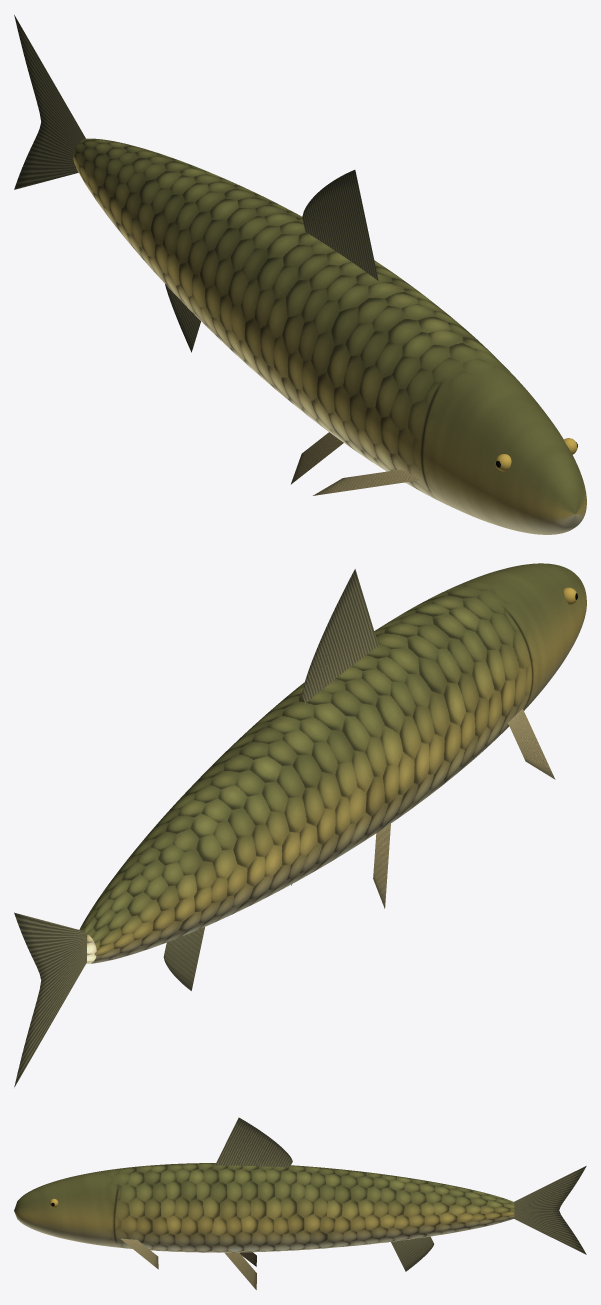
Rendered from bamur.obj.
3 renders of one model, top to bottom at view 1: azimuth 30°, elevation 25°; view 2: azimuth 150°, elevation 25°; view 3: azimuth 270°, elevation 25°, orthographic. The views are drawn at different scales.
Parts seen in each view (by area): view 1: body, fin_tail, fin_dorsal0, fin_pect_R, fin_pelv_R, fin_anal0; view 2: body, fin_tail, fin_dorsal0, fin_anal0, fin_pect_R, fin_pelv_R; view 3: body, fin_tail, fin_dorsal0, fin_anal0, fin_pelv_L, fin_pect_L.
Boxes of the visible parts, bbox=[...] form: body: bbox=[73, 138, 586, 534]; fin_tail: bbox=[14, 15, 85, 189]; fin_dorsal0: bbox=[302, 170, 378, 280]; fin_pect_R: bbox=[313, 469, 420, 495]; fin_pelv_R: bbox=[291, 432, 343, 484]; fin_anal0: bbox=[165, 284, 200, 352]; body: bbox=[79, 563, 586, 963]; fin_tail: bbox=[14, 912, 86, 1087]; fin_dorsal0: bbox=[302, 569, 378, 703]; fin_anal0: bbox=[163, 927, 204, 990]; fin_pect_R: bbox=[508, 708, 555, 779]; fin_pelv_R: bbox=[373, 823, 390, 908]; body: bbox=[14, 1163, 514, 1252]; fin_tail: bbox=[513, 1166, 586, 1254]; fin_dorsal0: bbox=[215, 1117, 292, 1167]; fin_anal0: bbox=[391, 1236, 433, 1271]; fin_pelv_L: bbox=[224, 1252, 256, 1289]; fin_pect_L: bbox=[120, 1238, 158, 1269].
Size of the model in its own units: 0.1876 by 0.2334 by 0.75.
5 materials, 3 textured.
